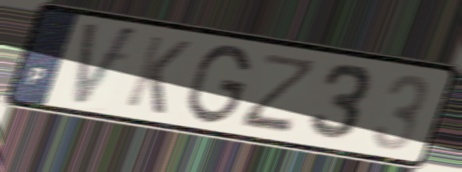3: (307, 62, 378, 144), (372, 72, 430, 152)
G: (184, 42, 253, 126)
K: (121, 32, 194, 118)
V: (70, 19, 143, 112)
Z: (235, 51, 323, 135)
